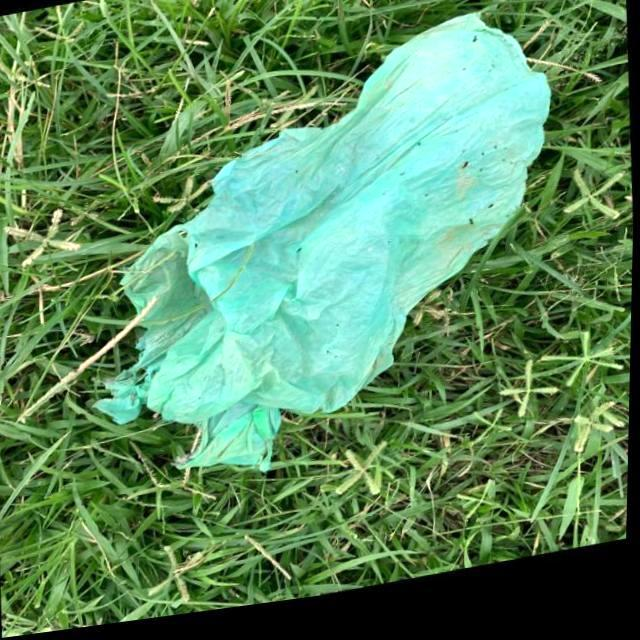polythene: (170, 0, 519, 494)
